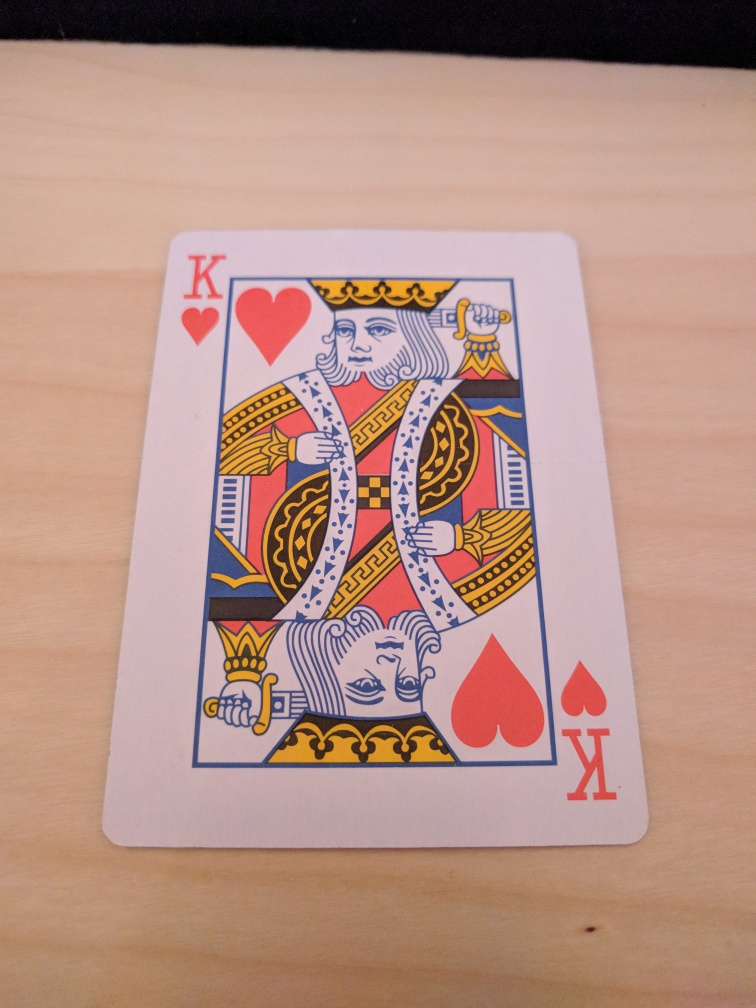king: (100, 231, 650, 848)
